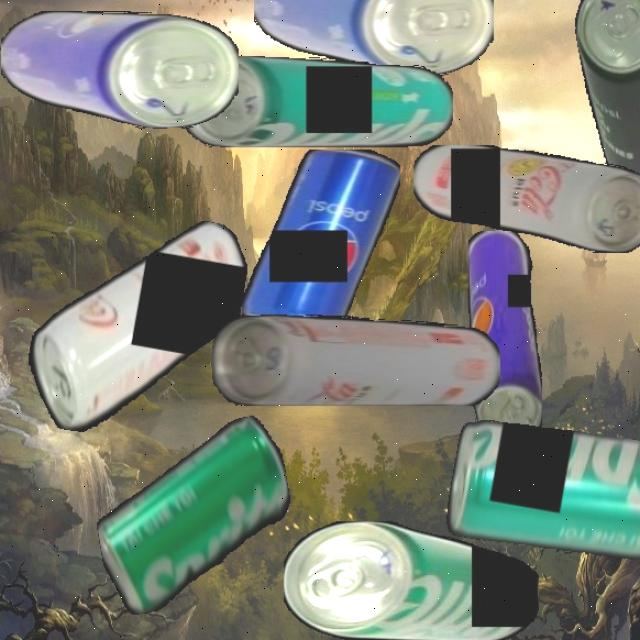debris: (18, 196, 254, 455), (83, 412, 304, 618), (443, 410, 640, 573), (284, 520, 539, 640), (241, 150, 400, 338), (0, 11, 239, 129), (211, 313, 500, 406), (183, 55, 453, 147), (412, 145, 640, 253), (253, 0, 494, 76), (467, 230, 542, 444), (568, 0, 640, 191)
